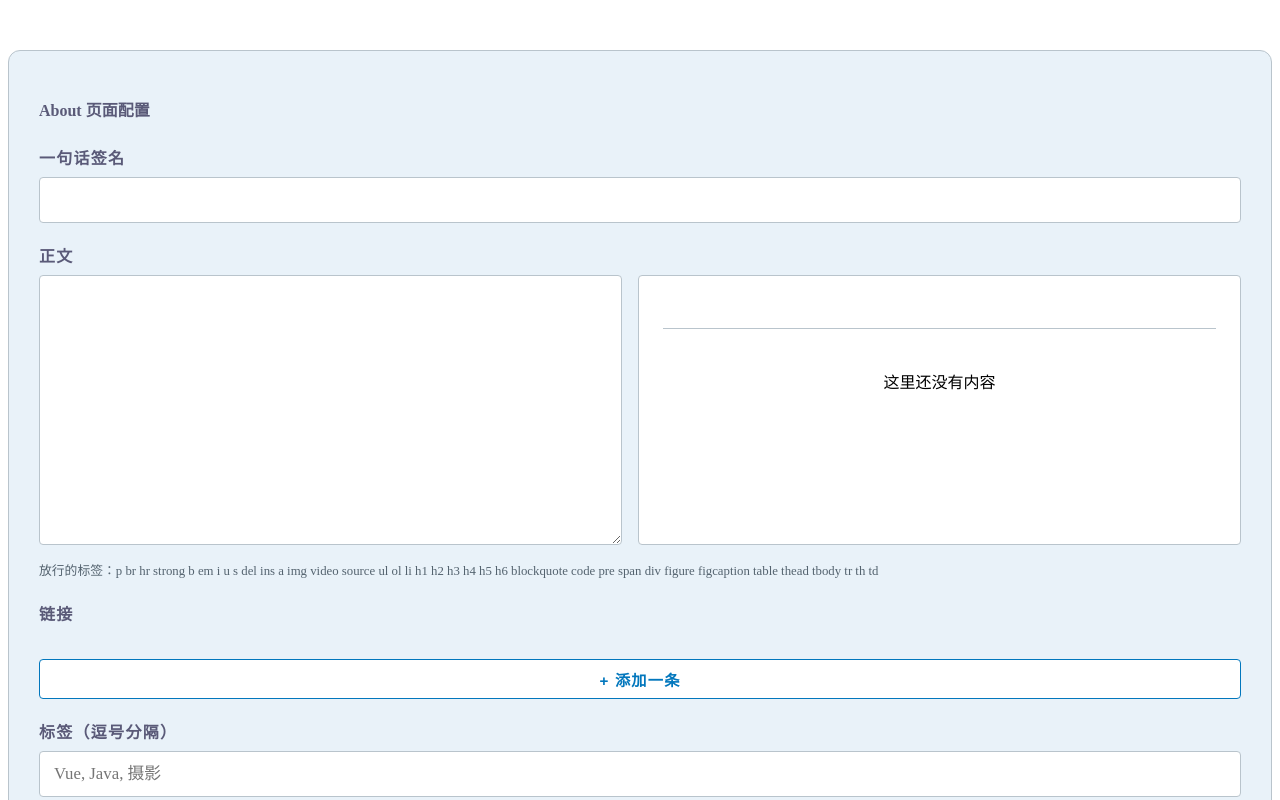
Test case: AboutConfigForm › 预览也走过滤，脚本渲染不出来
In the text box with class "about-bio-input": (330, 410) x1=39 y1=275 x2=622 y2=545, type "<script>alert(1)</script><p>正文</p>"
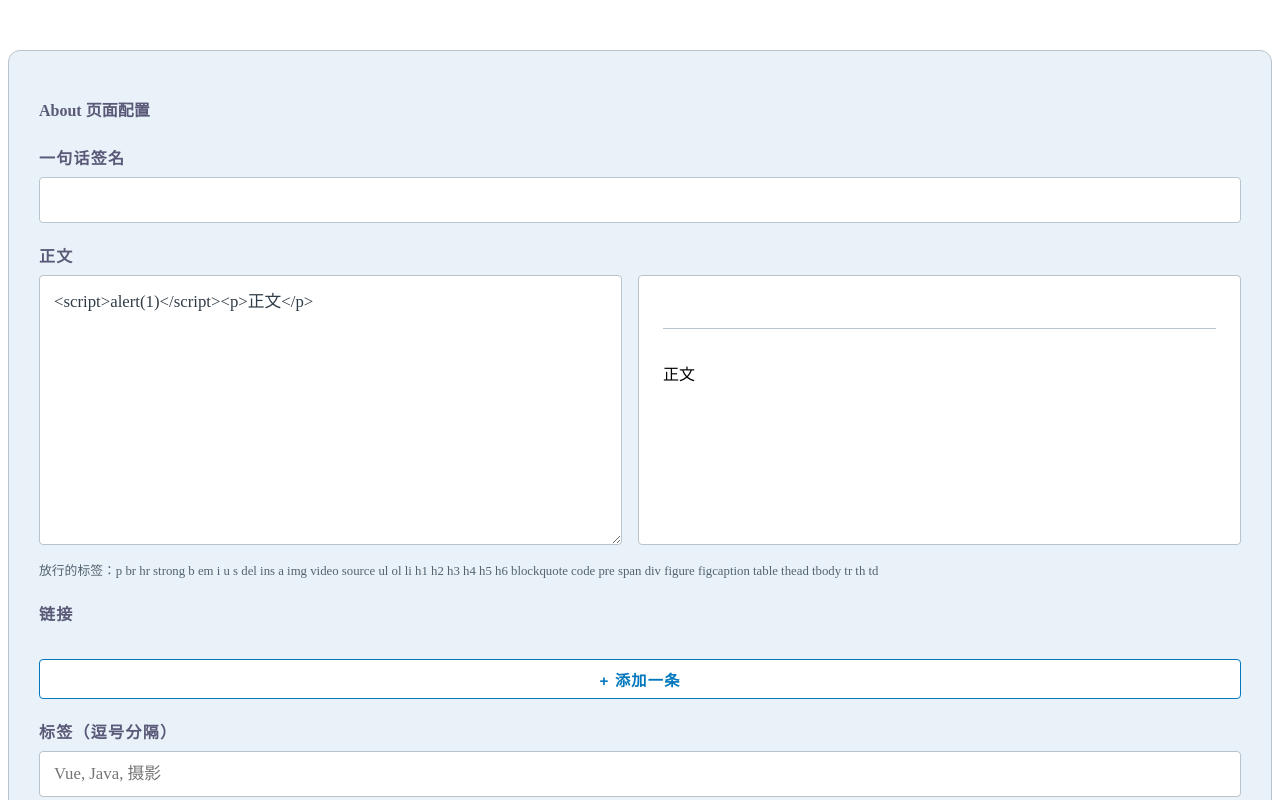
Expected: the element with class "bio-preview" does not show "alert"
Expected: the text "正文" is shown, x1=663 y1=367 x2=695 y2=385
